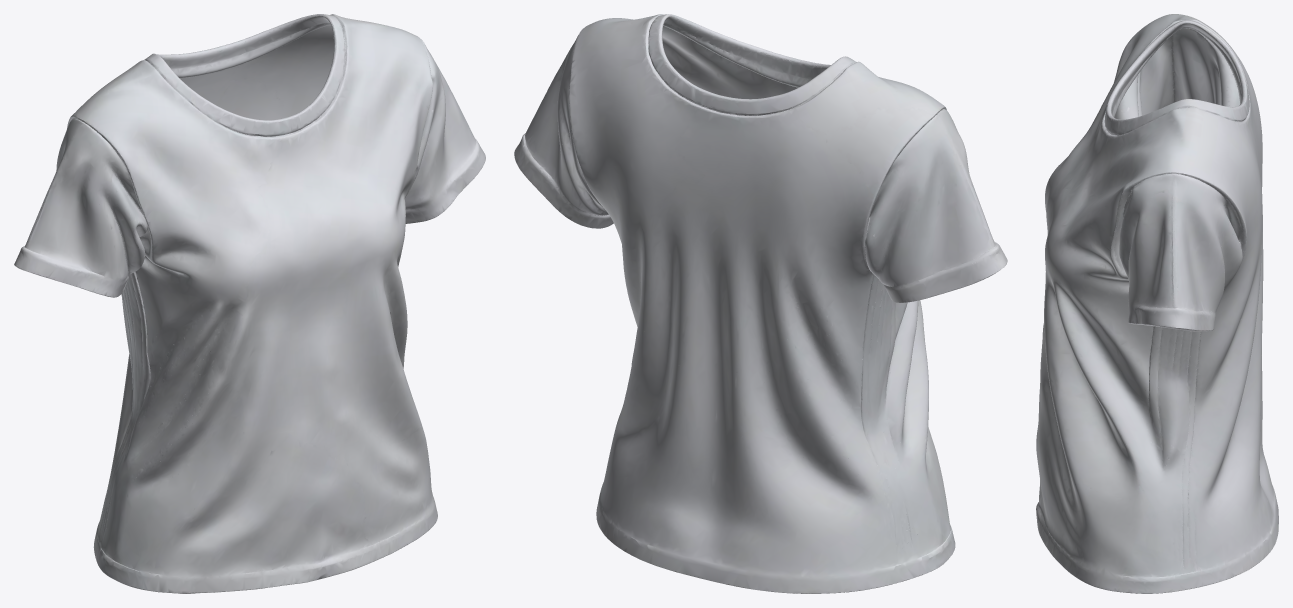
The picture shows the model from 3 angles, left to right: view 1: azimuth 30°, elevation 25°; view 2: azimuth 150°, elevation 25°; view 3: azimuth 270°, elevation 25°; orthographic projection. The views are drawn at different scales.
Parts seen in each view (by area): view 1: model; view 2: model; view 3: model.
Boxes of the visible parts, x1,y1,x2,y2 form: model: (14, 14, 485, 593); model: (514, 14, 1007, 593); model: (1036, 14, 1278, 593).
Bounding box in the file's own units: 1.9 × 1.89 × 0.8996.
1 material, 1 textured.
